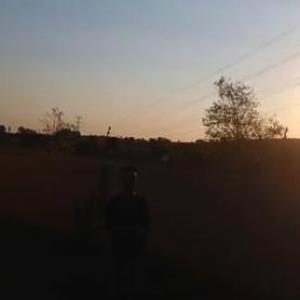follow: (102, 165, 158, 299)
